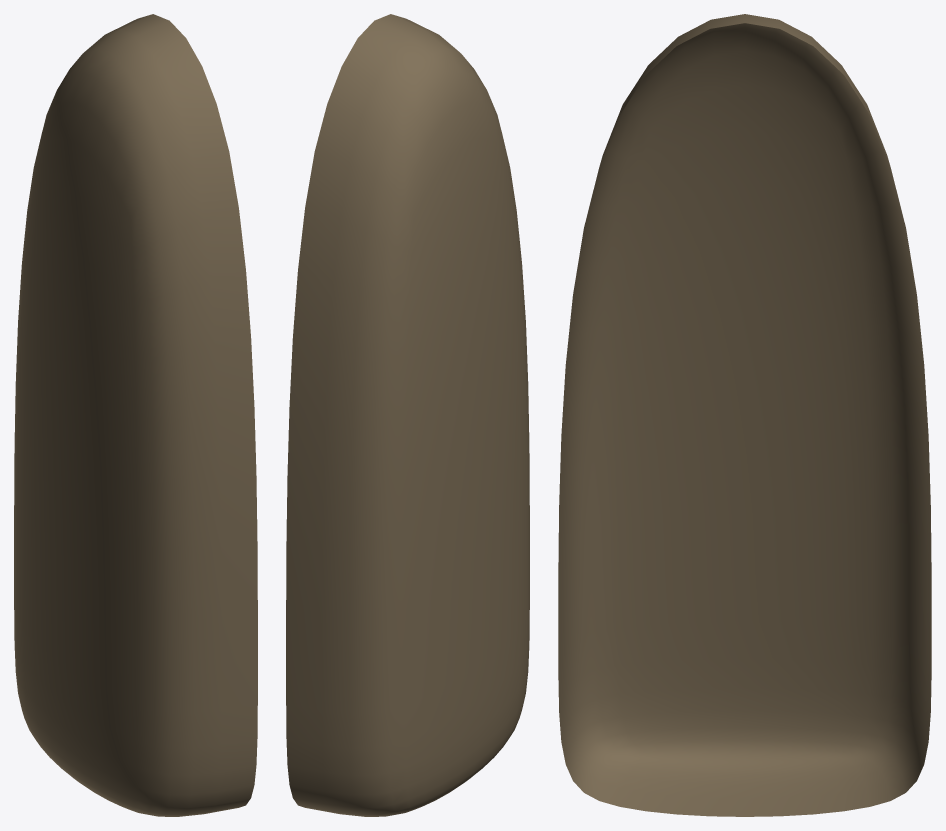
The model's file is terrain_frag.fbx.
3 renders of one model, left to right at view 1: azimuth 30°, elevation 25°; view 2: azimuth 150°, elevation 25°; view 3: azimuth 270°, elevation 25°, orthographic. The views are drawn at different scales.
Visible parts, largest first — view 1: pCube21; view 2: pCube21; view 3: pCube21.
Part boxes in pixels (box(x1,y1,x2,y2)): pCube21: box(14, 14, 257, 816); pCube21: box(286, 14, 529, 816); pCube21: box(558, 14, 931, 816).
Size of the model in its own units: 3.39 by 23.1 by 9.84.
